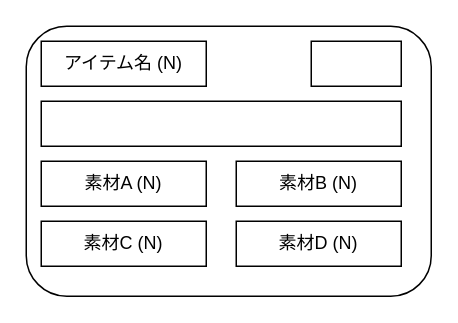
This 458x323 diagram has some shape labels left out. The centre of each missing label's shape, as x and y in pixels:
"施設名 N/秒" goes at [220,123].
"種類" goes at [355,63].
